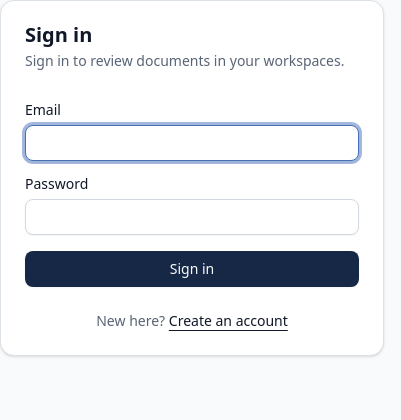
Test case: AuthForm › shows the server's error message on failed sign-in
In the field labelled "Email": (192, 143) [25,125,359,161], type "ada@example.com"
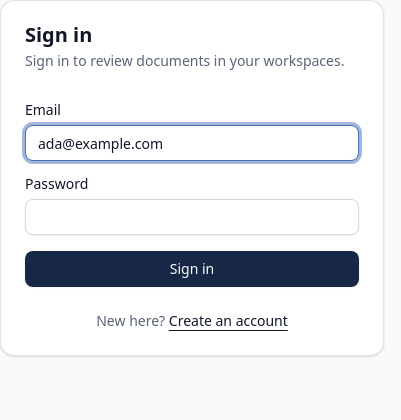
In the password field labelled "Password": (192, 217) [25,199,359,235], type "wrong"
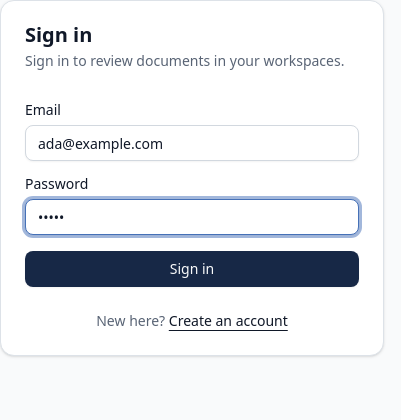
Click the button "Sign in": (192, 269) [25,251,359,287]
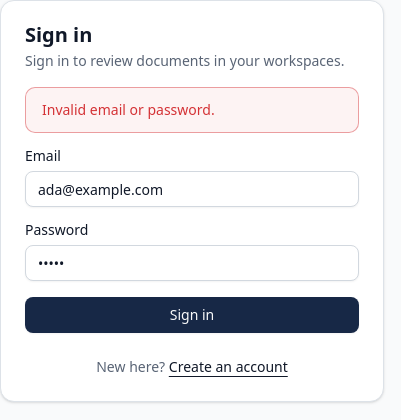
Expected: the text "Invalid email or password." is shown, [42,100,215,119]
